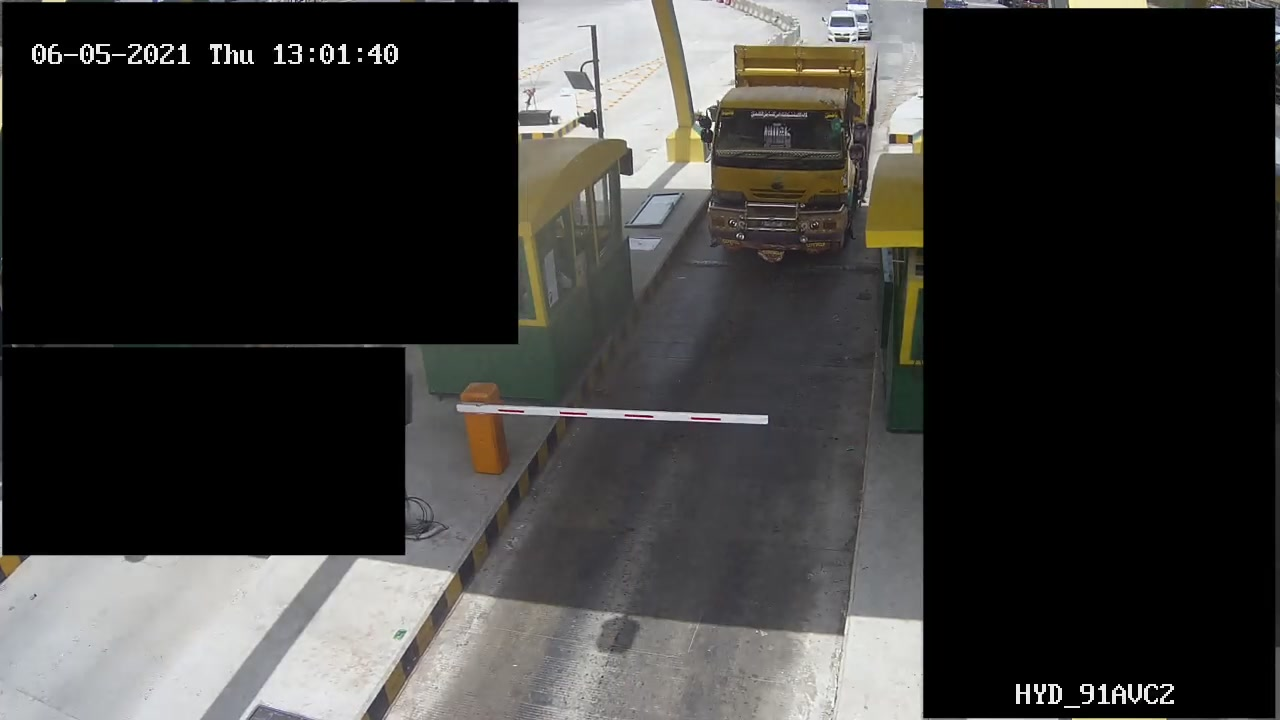F5: (697, 27, 875, 260)
